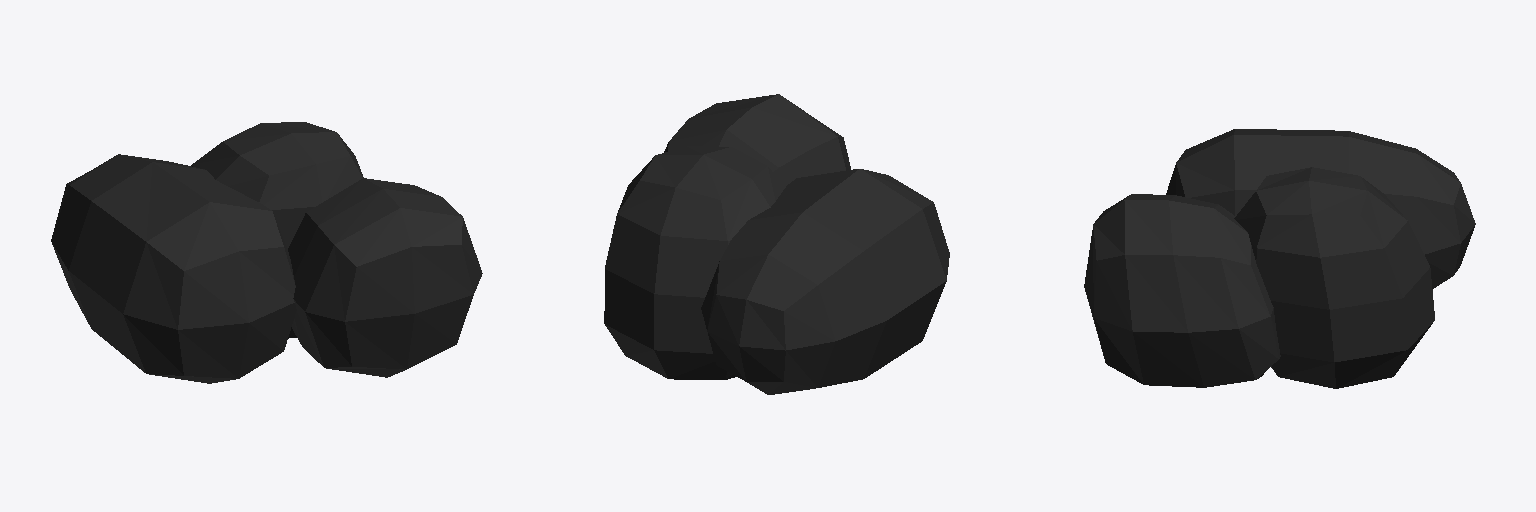
The model's file is rock1.obj.
The picture shows the model from 3 angles: view 1: azimuth 30°, elevation 25°; view 2: azimuth 150°, elevation 25°; view 3: azimuth 270°, elevation 25°; orthographic projection.
Parts seen in each view (by area): view 1: rock1; view 2: rock1; view 3: rock1.
Part boxes in pixels (x1,y1,x2,y2): rock1: (51, 122, 482, 383); rock1: (604, 94, 949, 394); rock1: (1084, 129, 1475, 388).
Bounding box in the file's own units: 1.32 × 0.8101 × 1.44.